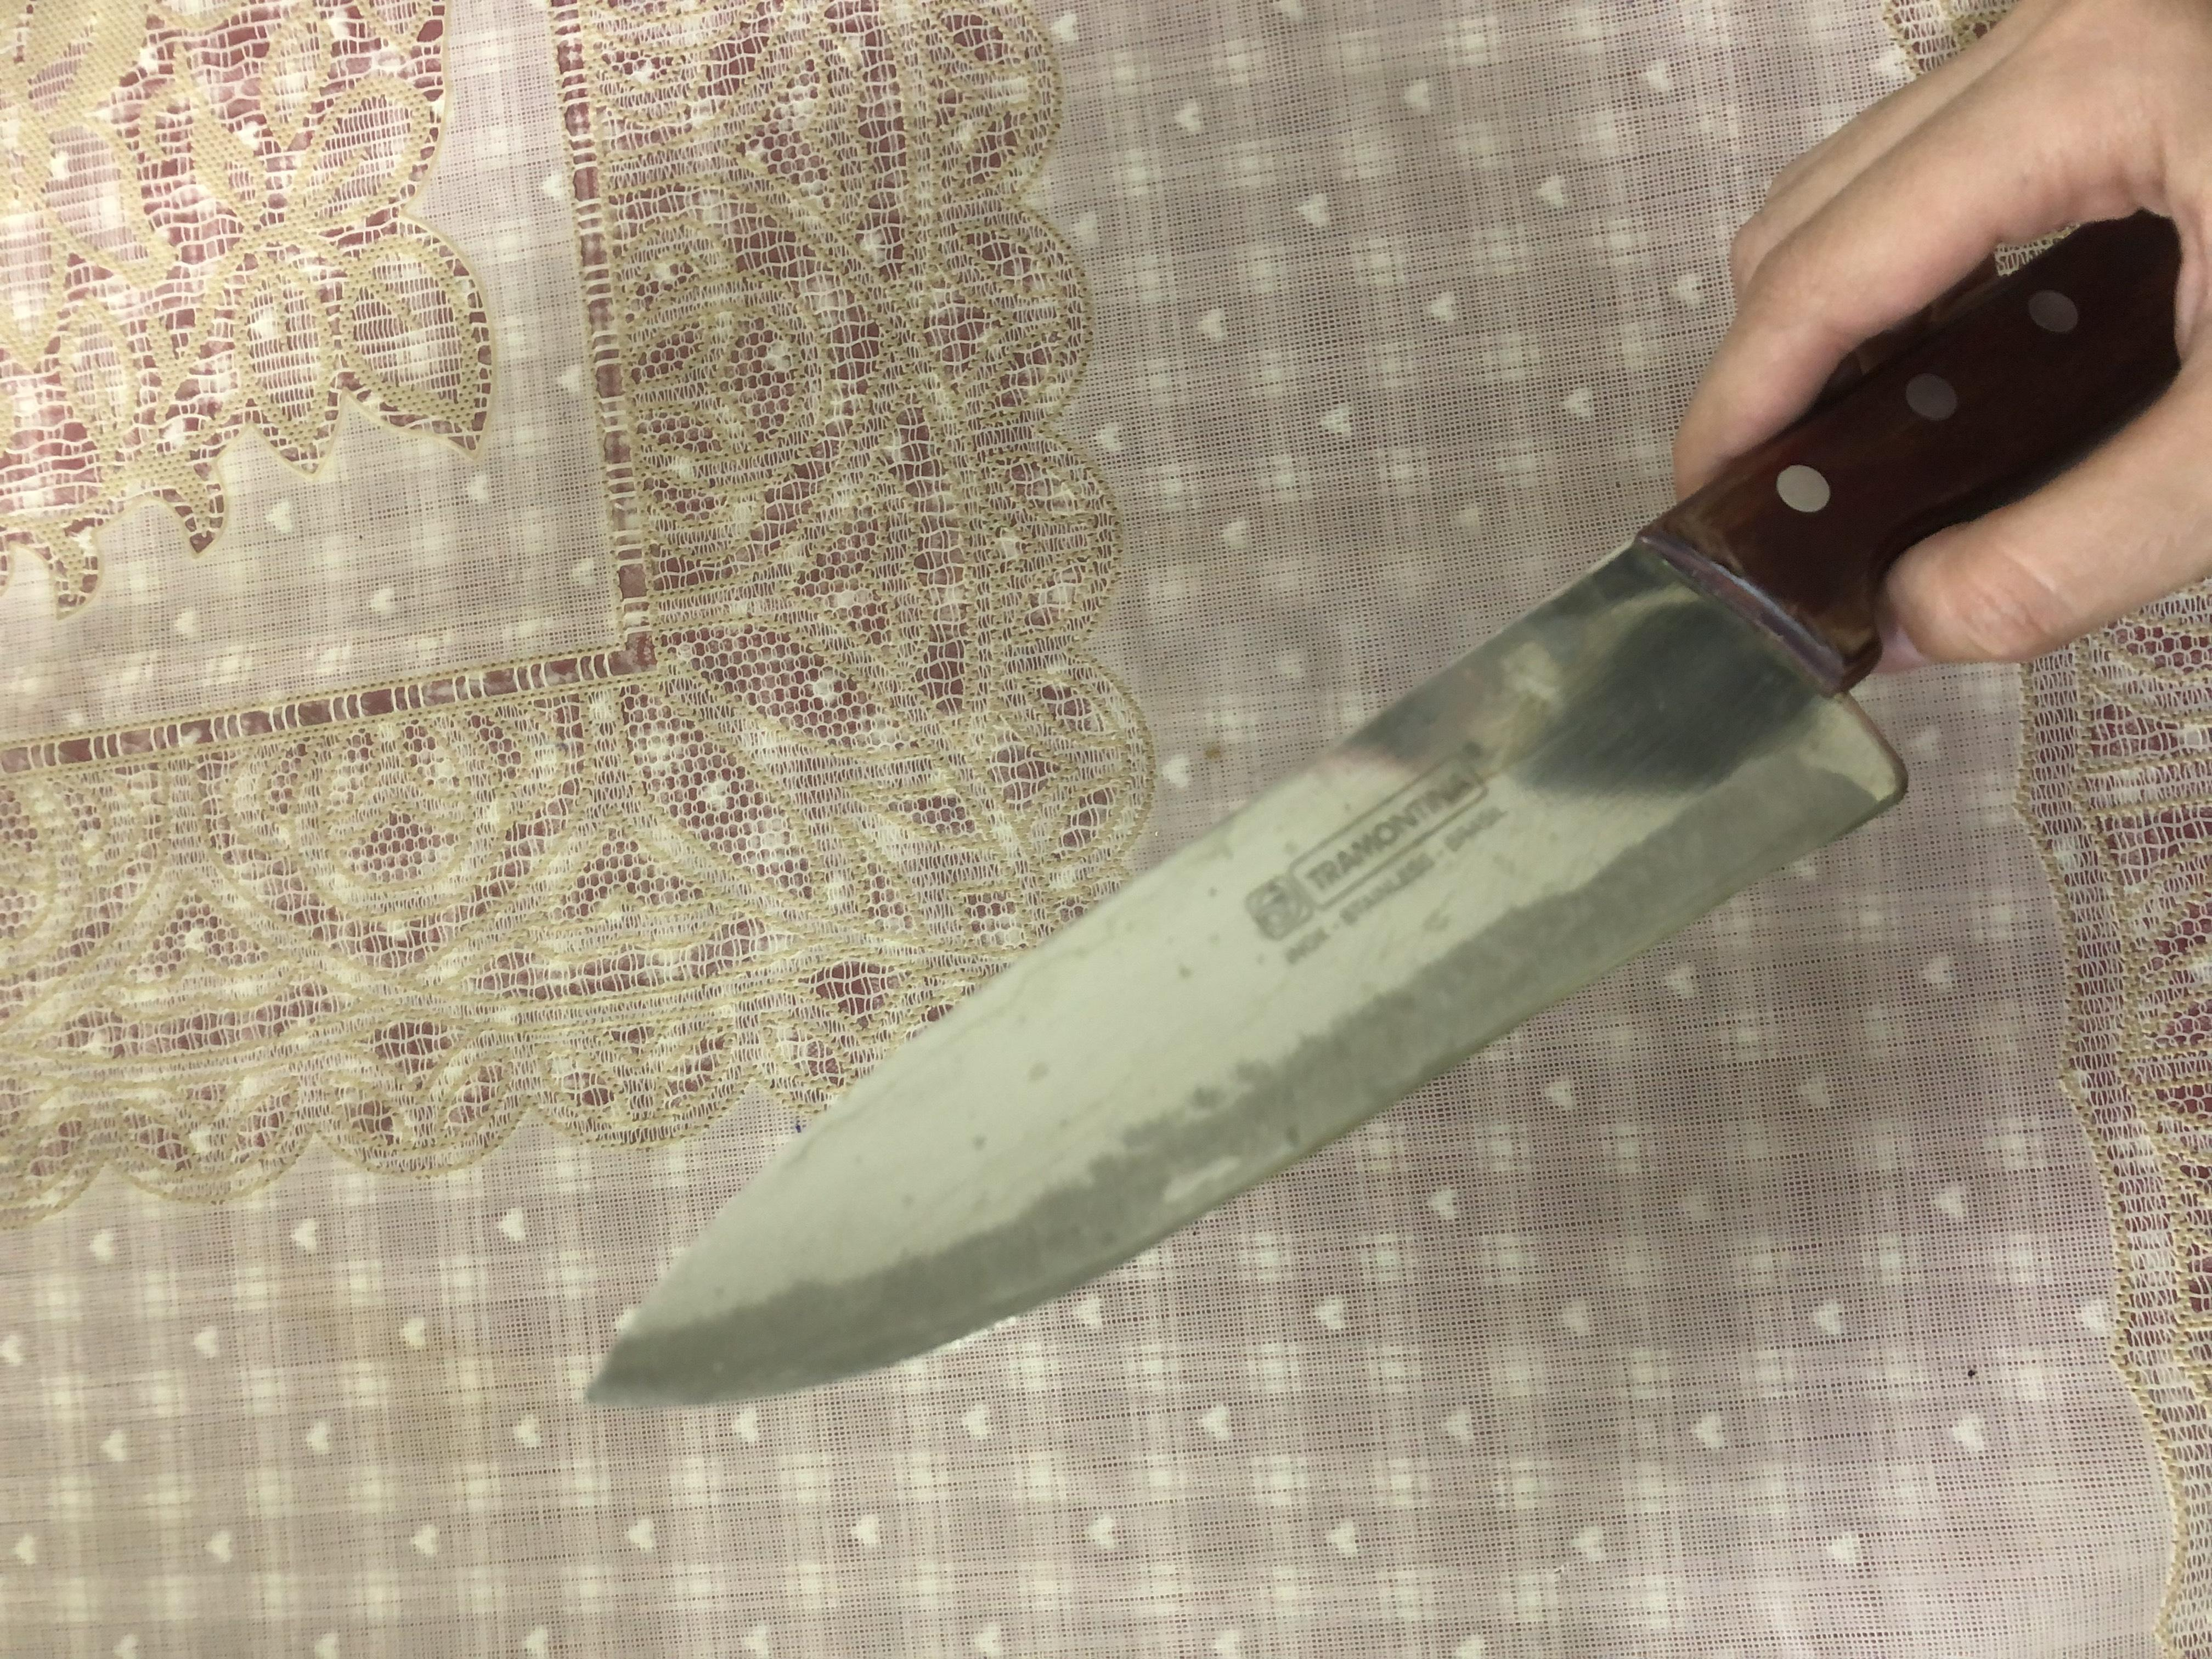weapon: (331, 433, 1935, 1642)
